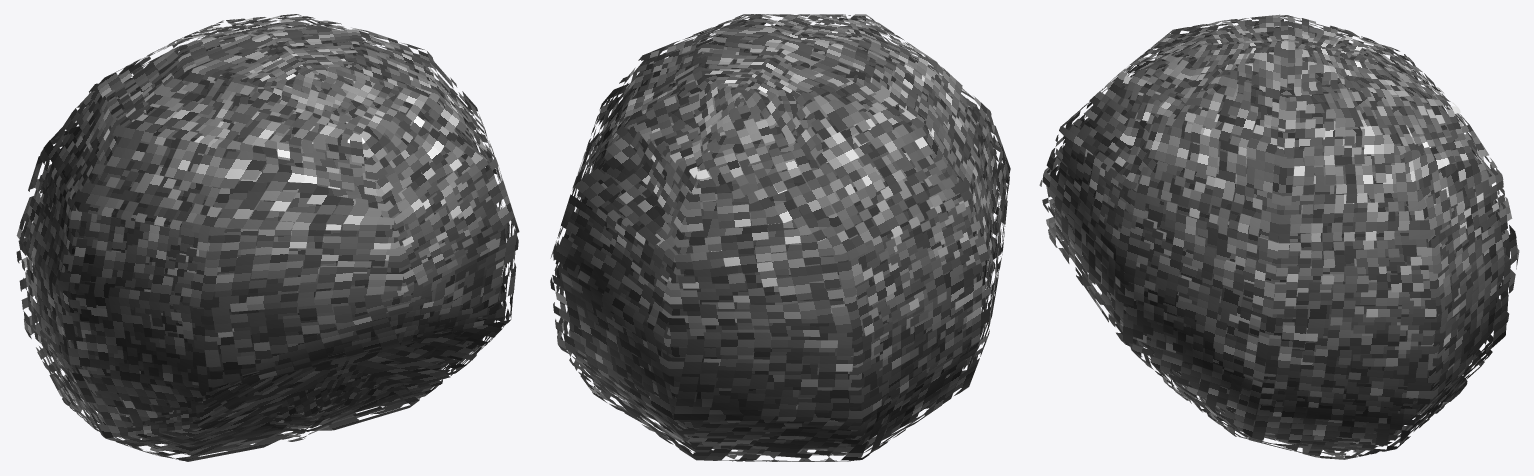
File: f_hair010.obj
The picture shows the model from 3 angles, left to right: view 1: azimuth 30°, elevation 25°; view 2: azimuth 150°, elevation 25°; view 3: azimuth 270°, elevation 25°; orthographic projection. The views are drawn at different scales.
Parts seen in each view (by area): view 1: editpl_f-0000-1912; view 2: editpl_f-0000-1912; view 3: editpl_f-0000-1912.
Part boxes in pixels (x1=…): editpl_f-0000-1912: x1=16, y1=14, x2=519, y2=461; editpl_f-0000-1912: x1=550, y1=14, x2=1010, y2=461; editpl_f-0000-1912: x1=1039, y1=14, x2=1519, y2=459.
Size of the model in its own units: 39.44 by 36.04 by 40.63.
